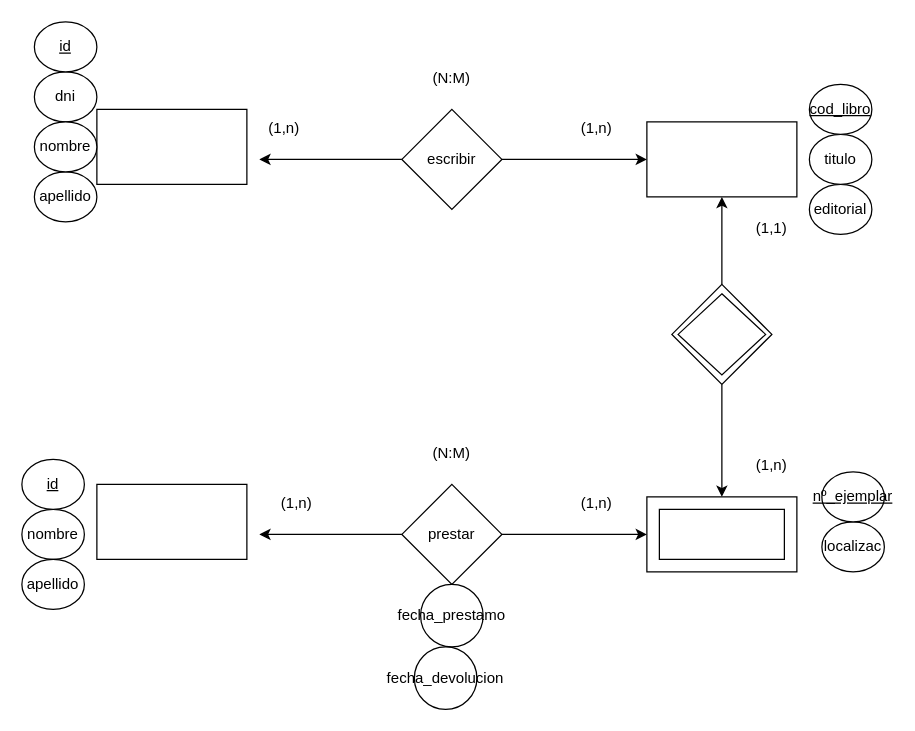
This 915x731 diagram has some shape labels left out. Here are the shapes that lost their labels. From the top down, the centre of each, then its label:
At pixel 171 146: "AUTOR".
At pixel 721 159: "LIBRO".
At pixel 721 333: "tener".
At pixel 171 521: "USUARIO".
At pixel 721 533: "EJEMPLAR".
